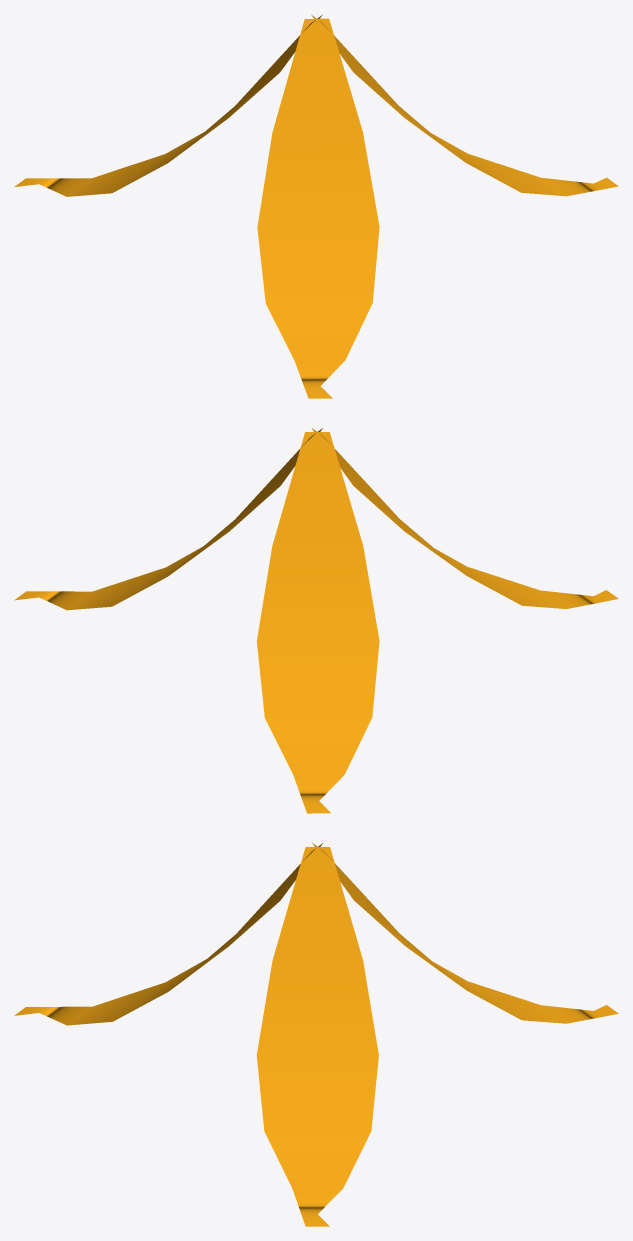
The model's file is CP07-1-banana.glb.
3 views of the same model, one above another, from view 1: azimuth 30°, elevation 25°; view 2: azimuth 150°, elevation 25°; view 3: azimuth 270°, elevation 25° (orthographic).
Parts seen in each view (by area): view 1: CP07-1-banana; view 2: CP07-1-banana; view 3: CP07-1-banana.
Part boxes in pixels (<box>): CP07-1-banana: <box>14,14,618,398</box>; CP07-1-banana: <box>14,428,618,813</box>; CP07-1-banana: <box>14,843,618,1226</box>.
Size of the model in its own units: 0.3839 by 0.19 by 0.4426.
